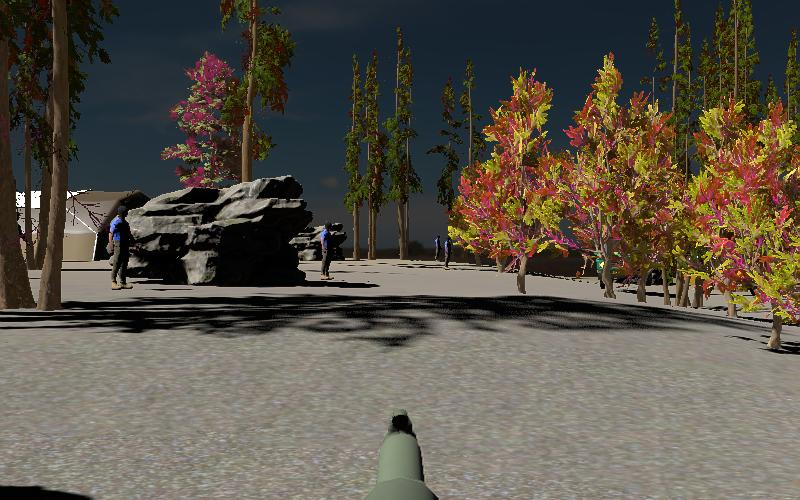Human: (107, 203, 137, 291), (319, 222, 337, 280)
